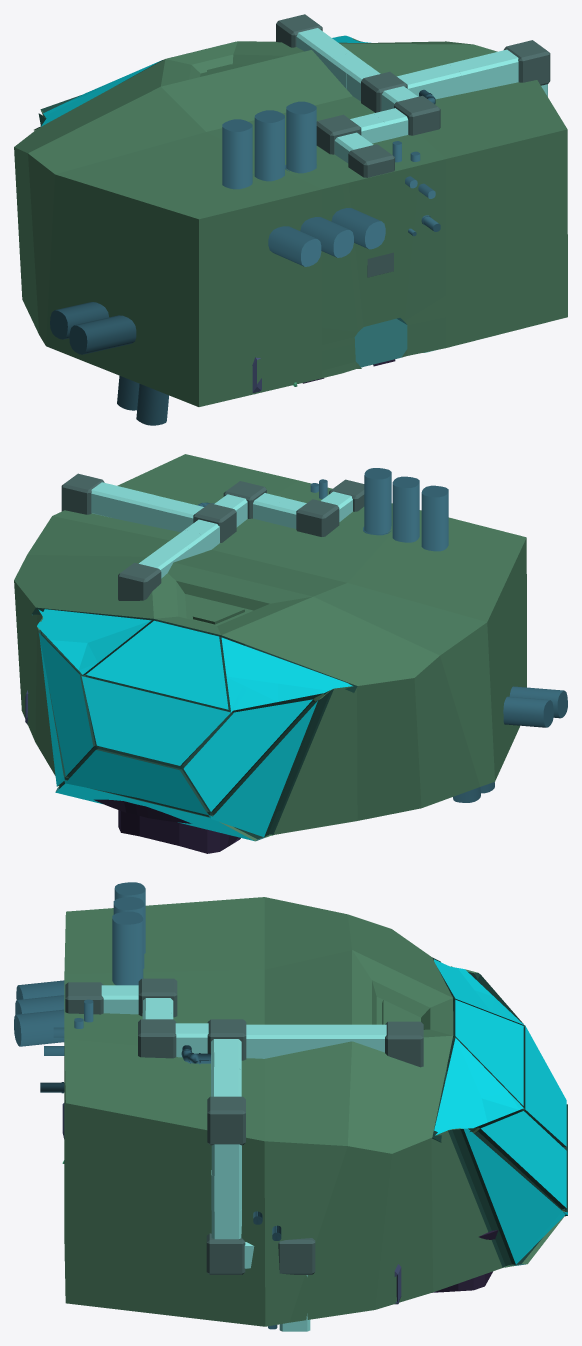
The model's file is controle_room_schale_correct (1).fbx.
3 views of the same model, one above another, from view 1: azimuth 30°, elevation 25°; view 2: azimuth 150°, elevation 25°; view 3: azimuth 270°, elevation 25° (orthographic). The views are drawn at different scales.
Parts seen in each view (by area): view 1: Cube.015, Cube.061, Cube.059, Cube.060, Cube.062, Cube.063, Cube.041, Cube.038, Cube.035, vent main.007, Cube.040, Cube.037 (+13 smaller); view 2: Cube.015, Cube.019, Cube.059, Cube.060, Cube.061, Cube.063, Cube.083, Cube.040, Cube.041, Cube.062, Cube.037, vent main.007 (+10 smaller); view 3: Cube.015, Cube.059, Cube.041, Cube.083, Cube.038, Cube.042, Cube.060, Cube.061, Cube.043, vent main.016, Cube.035, vent main.012 (+9 smaller).
Boxes of the visible parts, x1,y1,x2,y2 form: Cube.015: (14,35,567,406); Cube.061: (222,119,321,266); Cube.059: (285,101,385,249); Cube.060: (253,110,353,257); Cube.062: (69,315,168,425); Cube.063: (50,302,139,410); Cube.041: (504,40,550,85); Cube.038: (394,95,440,135); Cube.035: (348,144,394,177); vent main.007: (449,56,492,93); Cube.040: (316,114,361,154); Cube.037: (361,71,407,112); Cube.015: (14,454,526,841); Cube.019: (118,810,240,853); Cube.059: (363,468,391,535); Cube.060: (392,476,419,542); Cube.061: (421,485,448,551); Cube.063: (453,696,553,802); Cube.083: (118,562,161,600); Cube.040: (296,499,339,536); Cube.041: (61,473,104,514); Cube.062: (480,686,567,793); Cube.037: (193,503,236,542); vent main.007: (115,488,155,524); Cube.015: (64,897,567,1326); Cube.059: (14,911,143,1046); Cube.041: (207,1096,245,1145); Cube.083: (385,1021,423,1067); Cube.038: (138,1019,176,1058); Cube.042: (206,1233,245,1274); Cube.060: (15,897,144,1014); Cube.061: (16,882,145,999); Cube.043: (278,1238,315,1274); vent main.016: (246,1024,279,1058); Cube.035: (65,982,103,1014); vent main.012: (211,1144,241,1179).
Size of the model in its own units: 7769 by 4226 by 6748.
